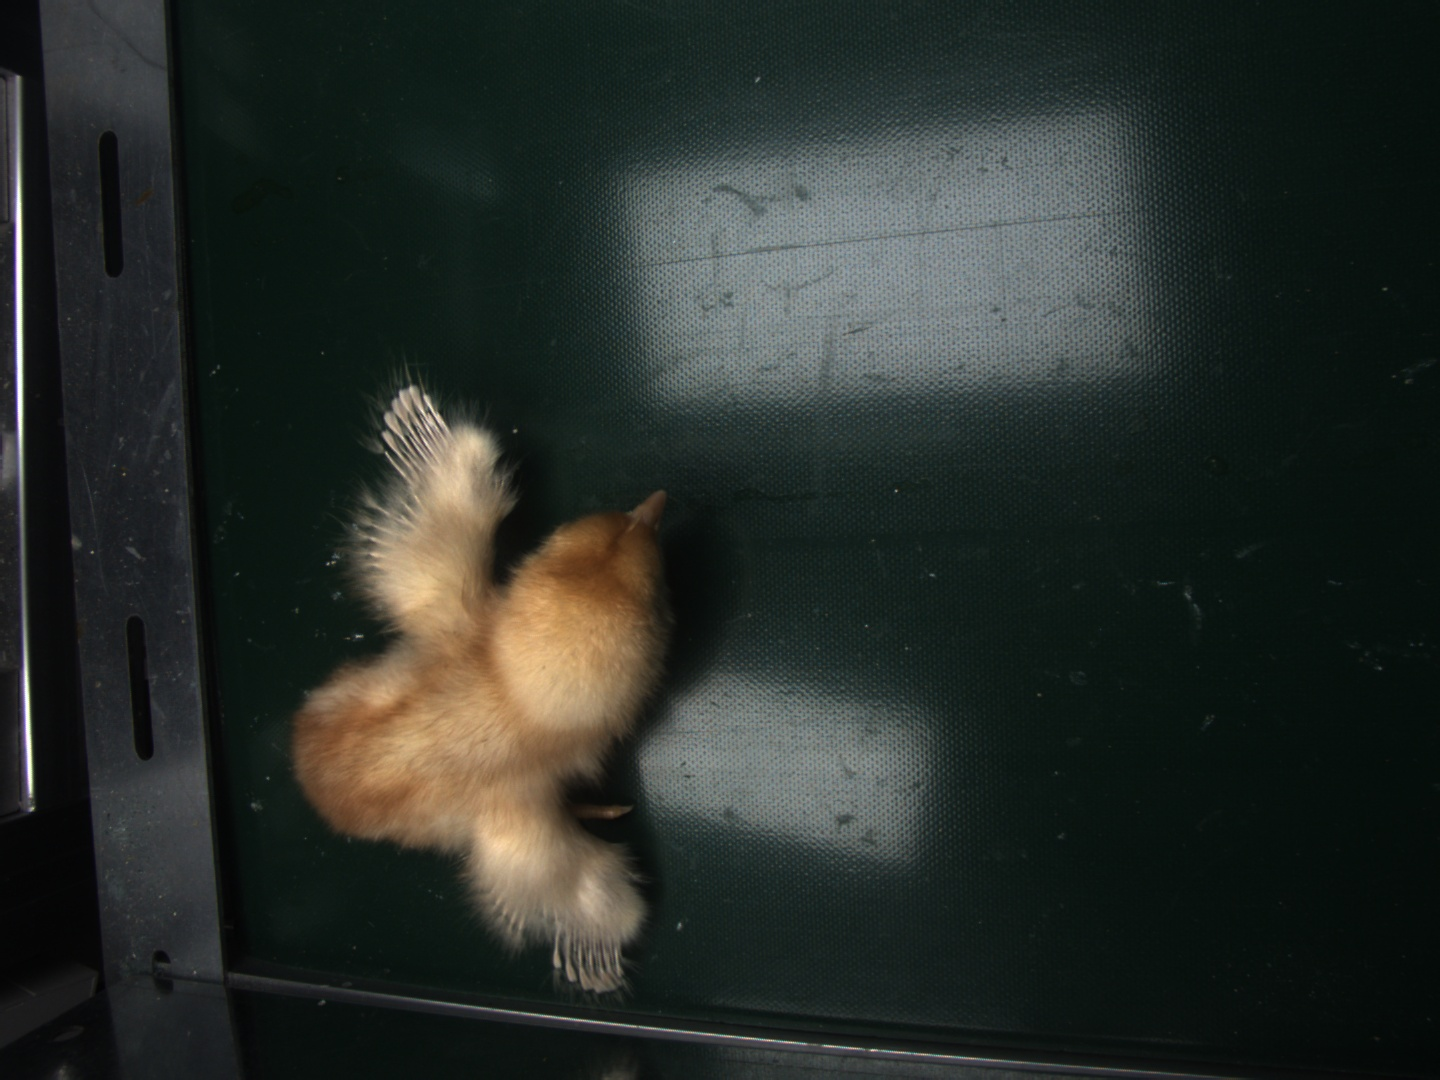female: (378, 382, 452, 481)
